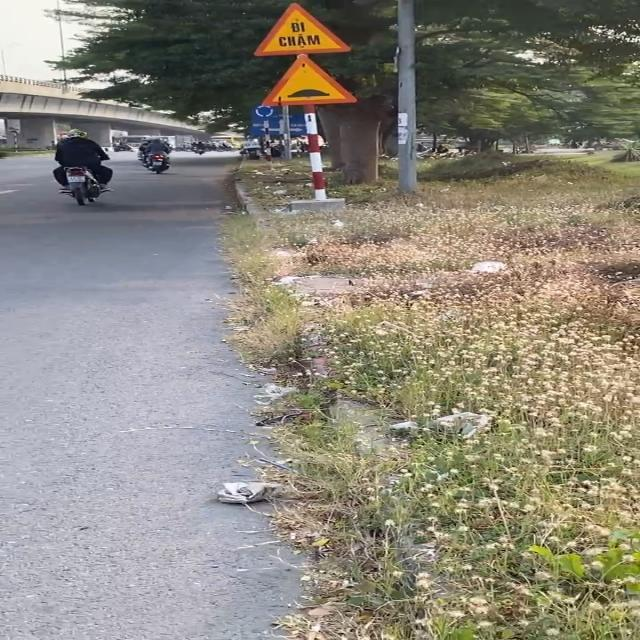221-duong-go-ghe: (261, 54, 355, 106)
245-di-cham: (254, 2, 354, 58)
303-noi-giao-nhau-chay-theo-vong-xuyen: (253, 104, 274, 120)
